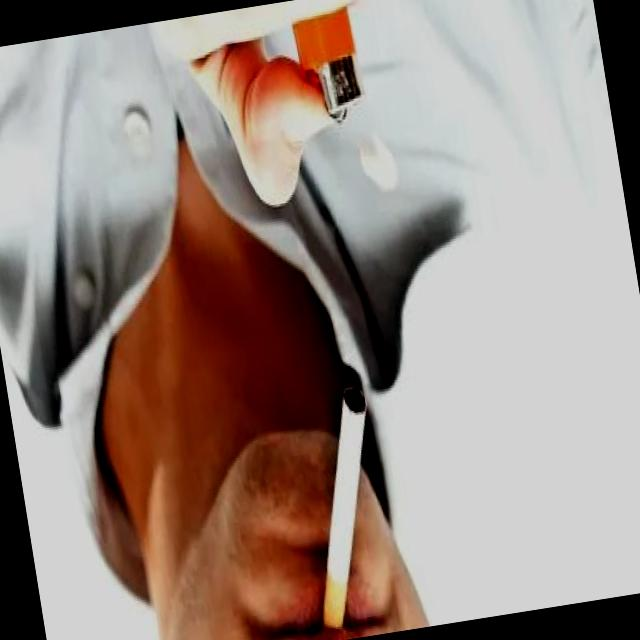cigarette: (282, 378, 404, 636)
